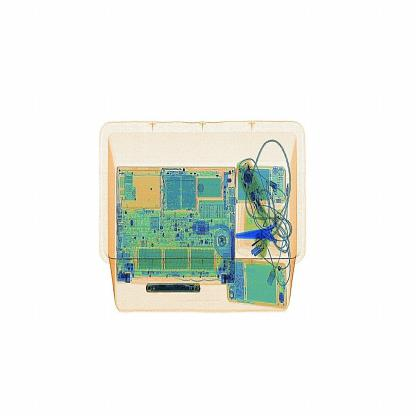gun: (235, 210, 294, 260)
